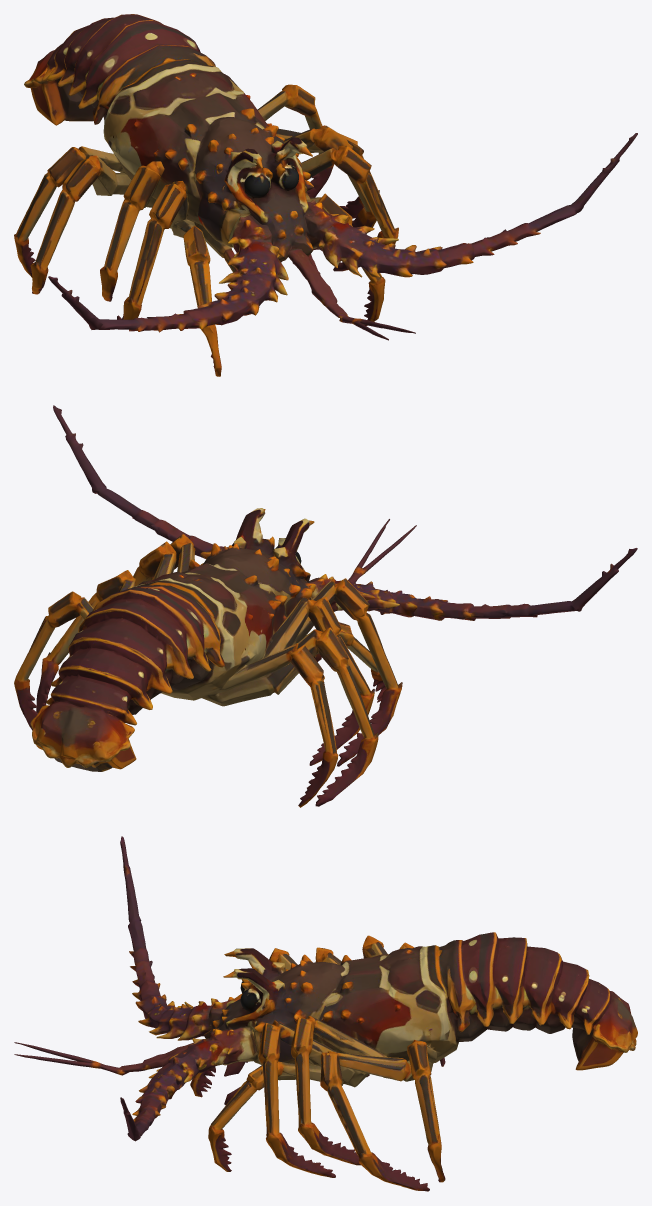
The model's file is langosta.glb.
3 views of the same model, one above another, from view 1: azimuth 30°, elevation 25°; view 2: azimuth 150°, elevation 25°; view 3: azimuth 270°, elevation 25° (orthographic). The views are drawn at different scales.
Parts seen in each view (by area): view 1: tripo_node_547a605d-9962-4270-a882-ffe916502e9c; view 2: tripo_node_547a605d-9962-4270-a882-ffe916502e9c; view 3: tripo_node_547a605d-9962-4270-a882-ffe916502e9c.
Boxes of the visible parts, x1,y1,x2,y2 form: tripo_node_547a605d-9962-4270-a882-ffe916502e9c: (14,14,637,376); tripo_node_547a605d-9962-4270-a882-ffe916502e9c: (14,405,637,807); tripo_node_547a605d-9962-4270-a882-ffe916502e9c: (14,836,637,1191).
Size of the model in its own units: 0.9957 by 0.3514 by 1.
Materials: 1 (1 with a texture image).
